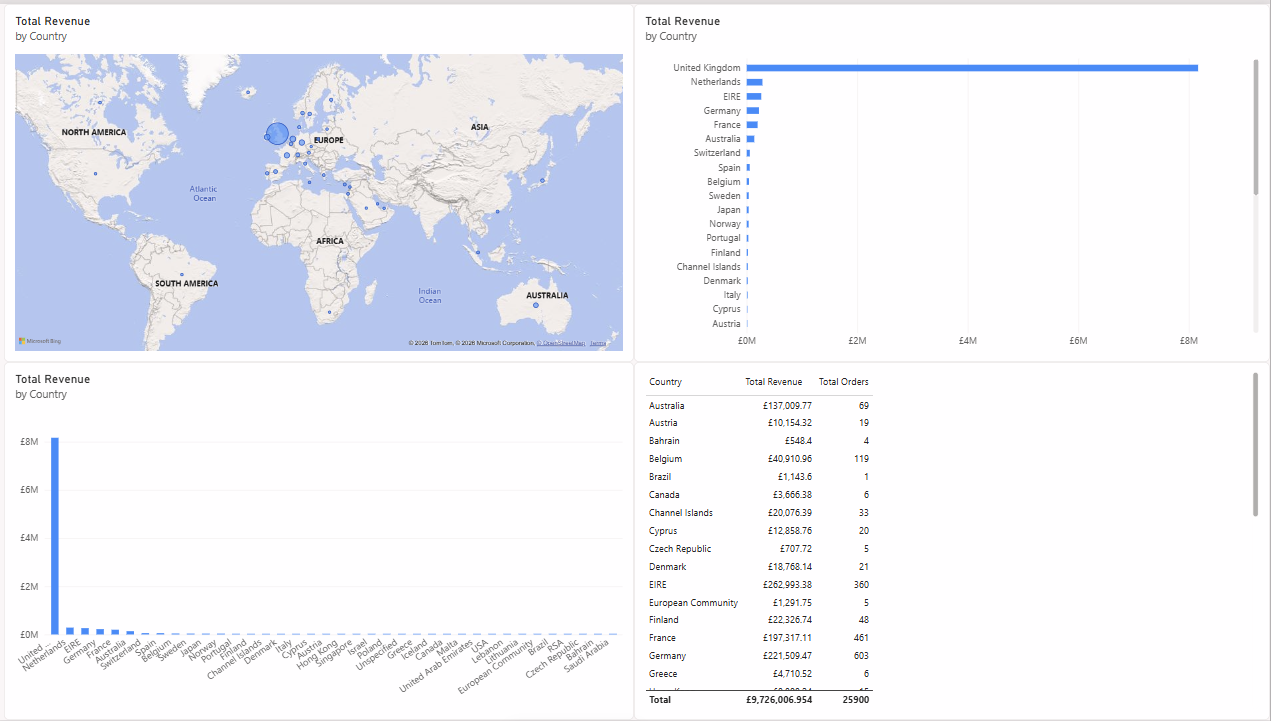

The page's visual inventory and layout, read from the dashboard file:
{"tool":"powerbi","page":{"name":"Country Performance","canvas":[1920,1080],"ordinal":3},"visuals":[{"type":"map","fields":{"Category":["DimCountry.Country"],"Size":["FactSales.Total Revenue"]},"box":[10.6,0,950.2,540],"z":0},{"type":"clusteredBarChart","fields":{"Category":["DimCountry.Country"],"Y":["FactSales.Total Revenue"]},"box":[960.8,0,959.2,540],"z":1},{"type":"columnChart","fields":{"Category":["DimCountry.Country"],"Y":["FactSales.Total Revenue"]},"box":[10.6,540,950.2,540],"z":2},{"type":"tableEx","fields":{"Values":["DimCountry.Country","FactSales.Total Revenue","FactSales.Total Orders"]},"box":[960.8,540,959.2,540],"z":3}]}

Visuals, with their boxes in screenshot pixels (x1, y1, x2, y2), scaled from the page's 1920x1080 canvas onto the 1271x721 screenshot:
map - DimCountry.Country x FactSales.Total Revenue: 7:0:636:360
clusteredBarChart - DimCountry.Country x FactSales.Total Revenue: 636:0:1270:360
columnChart - DimCountry.Country x FactSales.Total Revenue: 7:360:636:720
tableEx - DimCountry.Country x FactSales.Total Revenue: 636:360:1270:720
